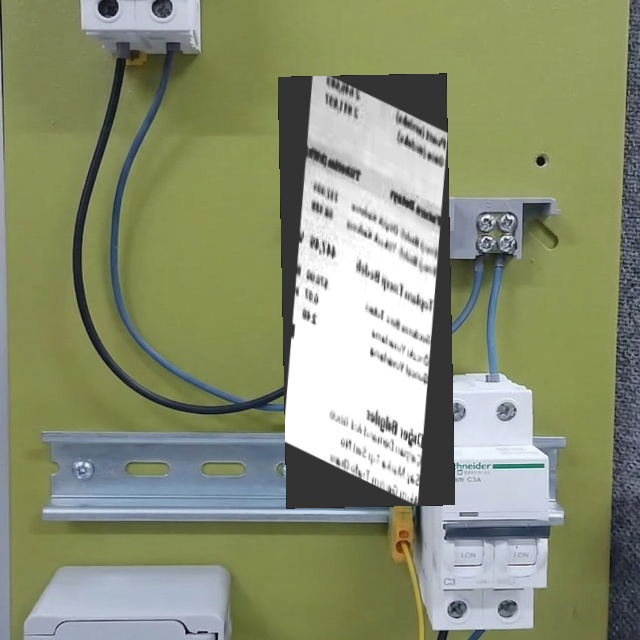electricity-bill: (278, 72, 454, 508)
